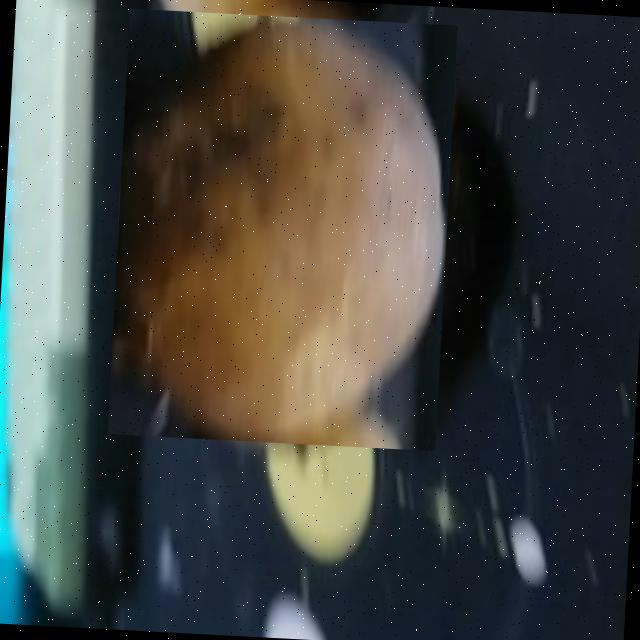Damaged potato: (108, 8, 458, 450)
